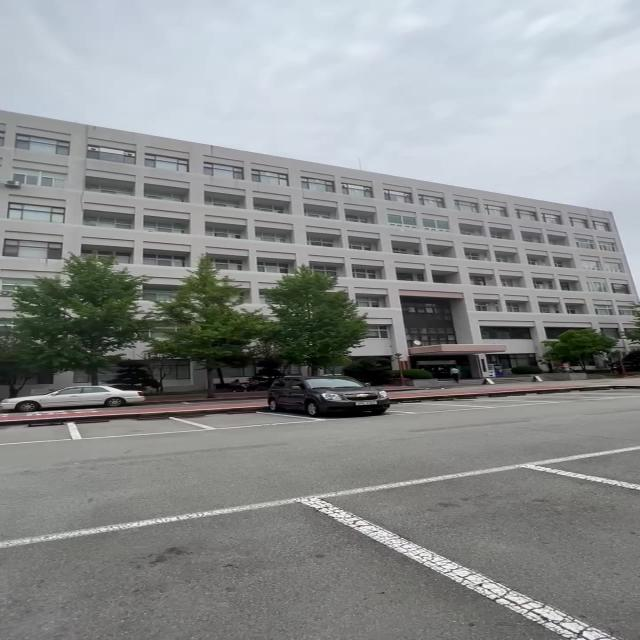building: (25, 128, 635, 273)
